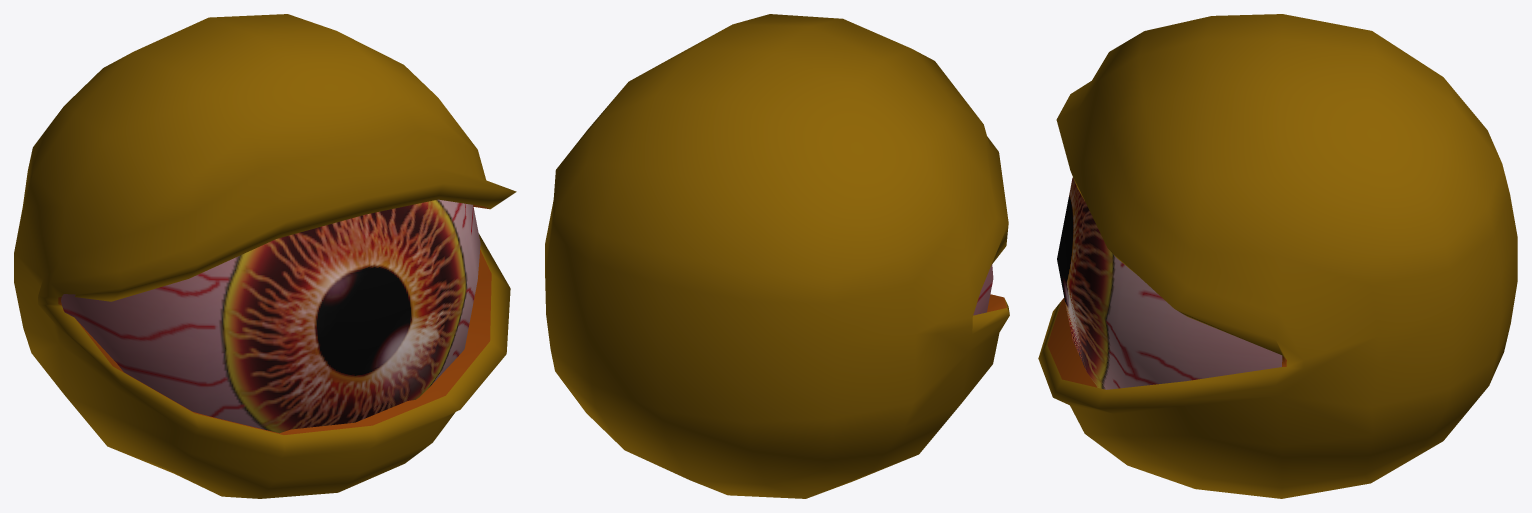
Rendered from Human Eyeball.fbx.
3 views of the same model, side by side, from view 1: azimuth 30°, elevation 25°; view 2: azimuth 150°, elevation 25°; view 3: azimuth 270°, elevation 25° (orthographic). The views are drawn at different scales.
Visible parts, largest first — view 1: human eyelid, human eyeball; view 2: human eyelid; view 3: human eyelid, human eyeball.
Boxes of the visible parts, <box> form: human eyelid: <box>14,14,516,498</box>; human eyeball: <box>61,199,480,433</box>; human eyelid: <box>545,14,1009,498</box>; human eyelid: <box>1038,14,1517,498</box>; human eyeball: <box>1057,177,1282,389</box>.
Size of the model in its own units: 185 by 179 by 179.
Materials: 1 (1 with a texture image).
